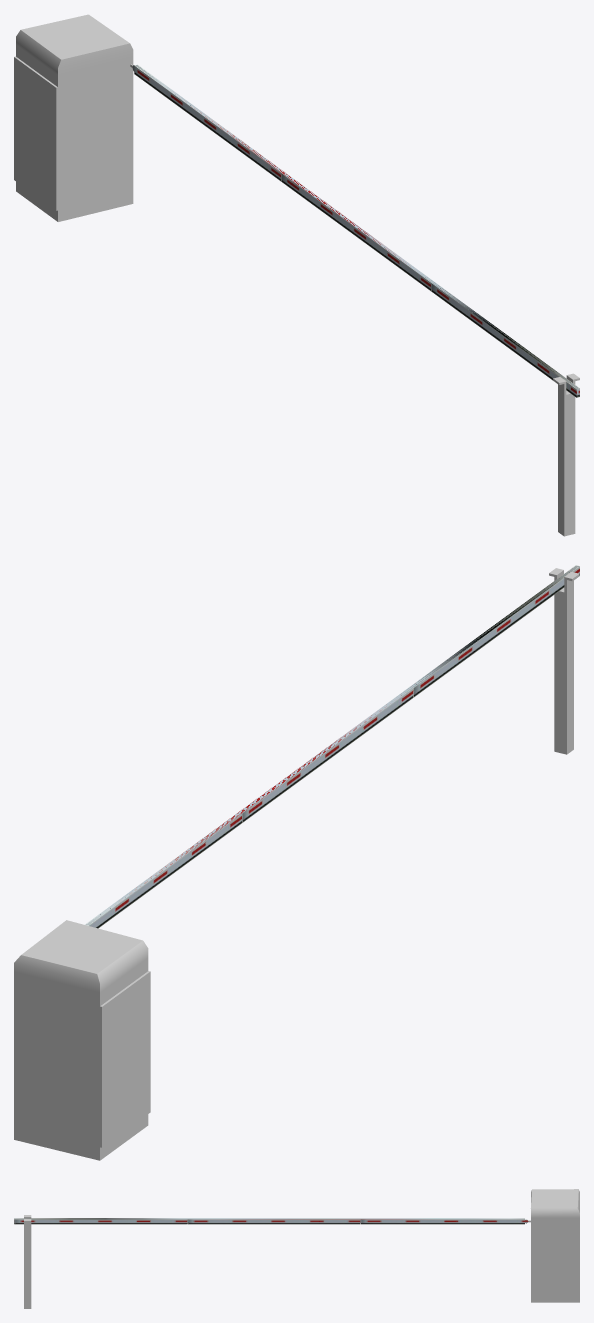
Rendered from qiloujia.FBX.
3 renders of one model, top to bottom at view 1: azimuth 30°, elevation 25°; view 2: azimuth 150°, elevation 25°; view 3: azimuth 270°, elevation 25°, orthographic. The views are drawn at different scales.
Parts seen in each view (by area): view 1: Box001, Box005; view 2: Box001, Box005; view 3: Box001, Box005.
Boxes of the visible parts, bbox=[...] form: Box001: bbox=[14, 14, 579, 536]; Box005: bbox=[132, 64, 579, 397]; Box001: bbox=[14, 568, 579, 1160]; Box005: bbox=[85, 565, 579, 928]; Box001: bbox=[24, 1189, 579, 1308]; Box005: bbox=[14, 1218, 528, 1224].
Bounding box in the file's own units: 58.46 × 113 × 585.
Materials: 1 (1 with a texture image).
